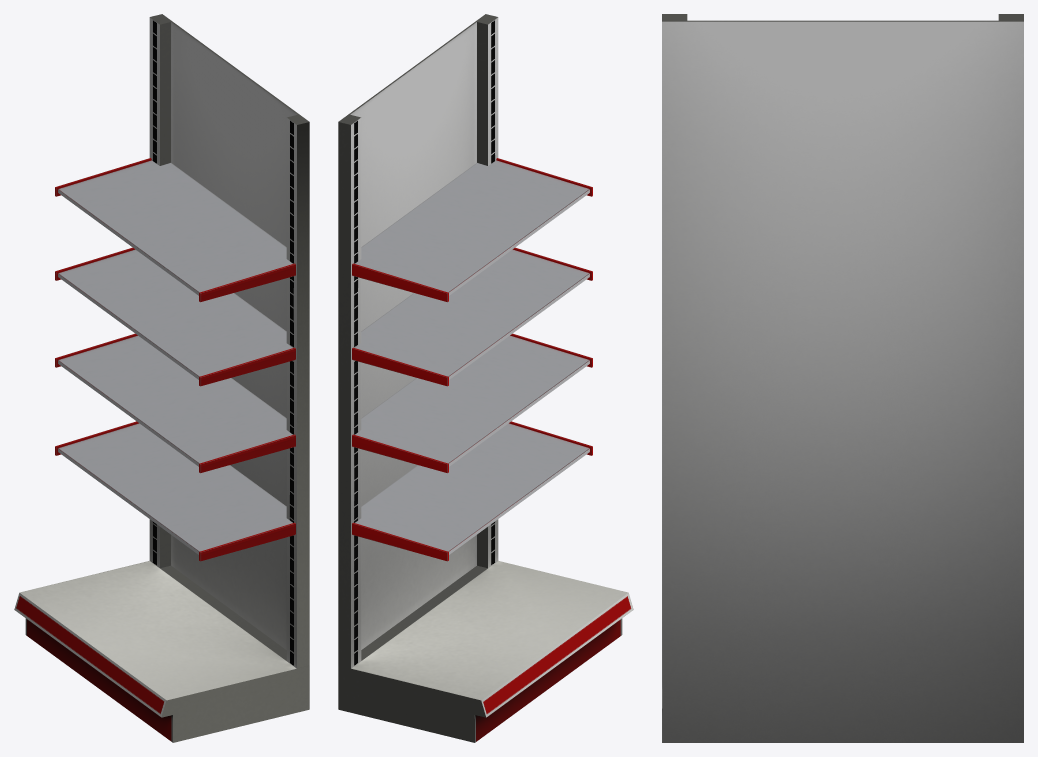
Rendered from sp_rack_1.FBX.
3 views of the same model, side by side, from view 1: azimuth 30°, elevation 25°; view 2: azimuth 150°, elevation 25°; view 3: azimuth 270°, elevation 25° (orthographic). The views are drawn at different scales.
Visible parts, largest first — view 1: sp_rack_1; view 2: sp_rack_1; view 3: sp_rack_1.
Boxes of the visible parts, bbox=[...] form: sp_rack_1: bbox=[14, 14, 309, 742]; sp_rack_1: bbox=[338, 14, 633, 742]; sp_rack_1: bbox=[662, 14, 1023, 742].
Size of the model in its own units: 22.83 by 39.37 by 86.61.
